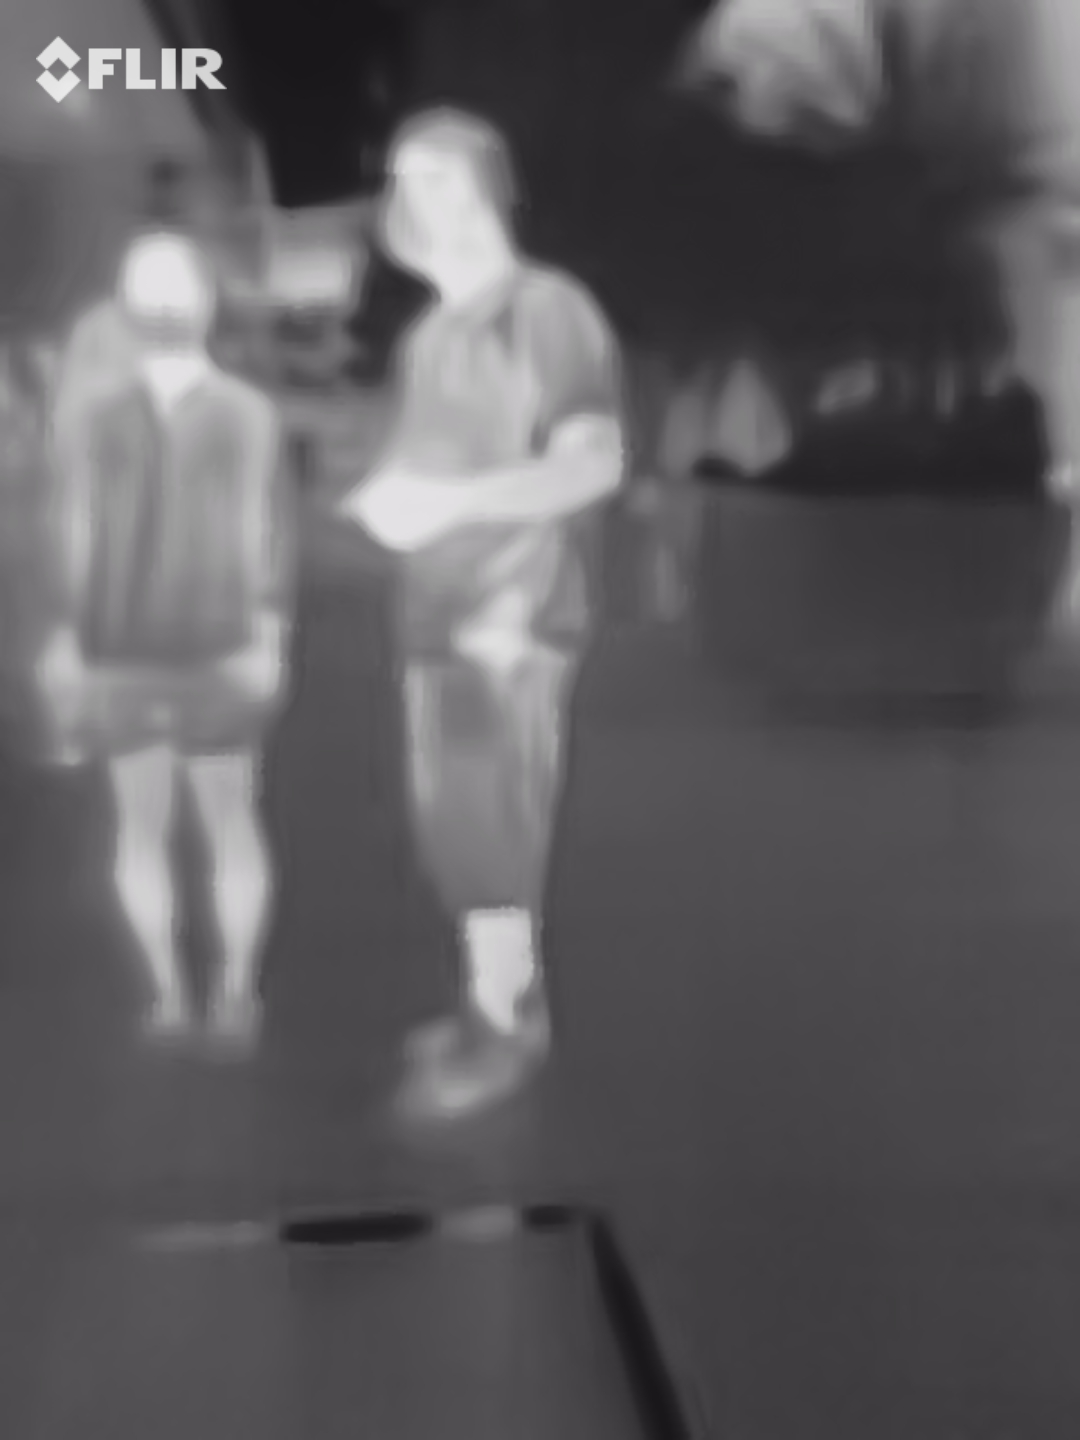head: (366, 110, 526, 289), (112, 230, 223, 365)
